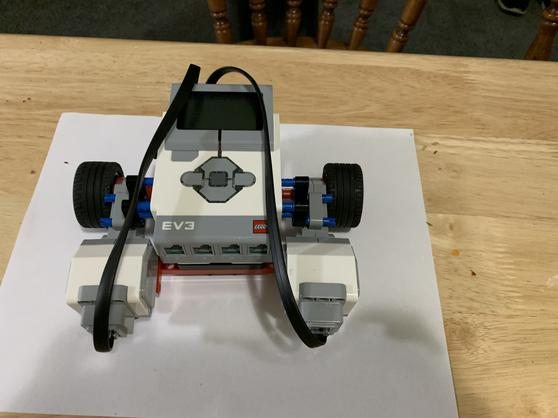robot: (71, 57, 376, 361)
